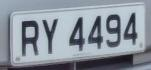4: (66, 12, 87, 55), (86, 11, 106, 55), (121, 10, 141, 49)
9: (103, 9, 123, 49)
R: (19, 18, 42, 61)
Y: (40, 16, 62, 58)
